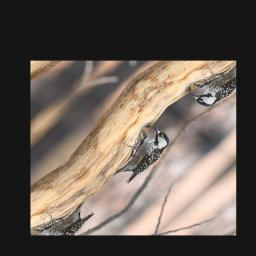Woodpecker: (102, 122, 177, 187)
